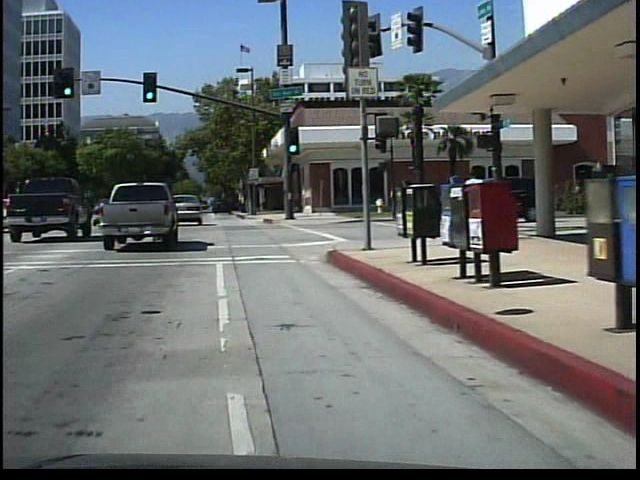car: (7, 176, 92, 249), (102, 176, 178, 249), (176, 193, 209, 231)
strada: (1, 247, 570, 480)
